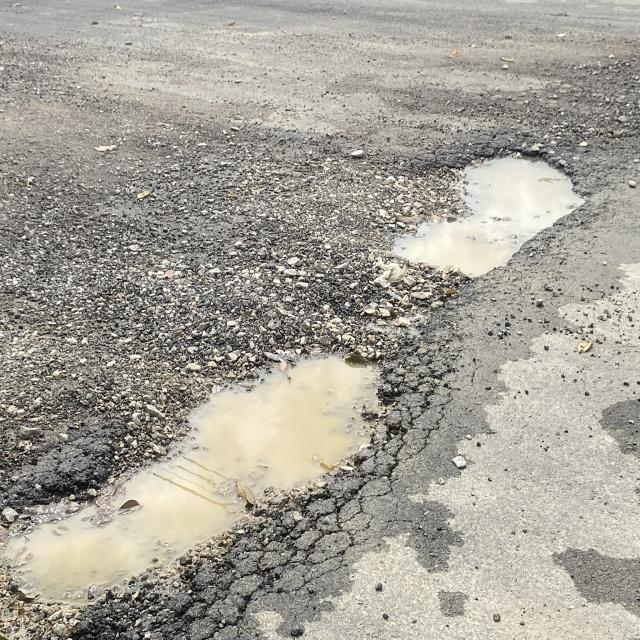pothole: (0, 308, 386, 636), (356, 122, 616, 311)
